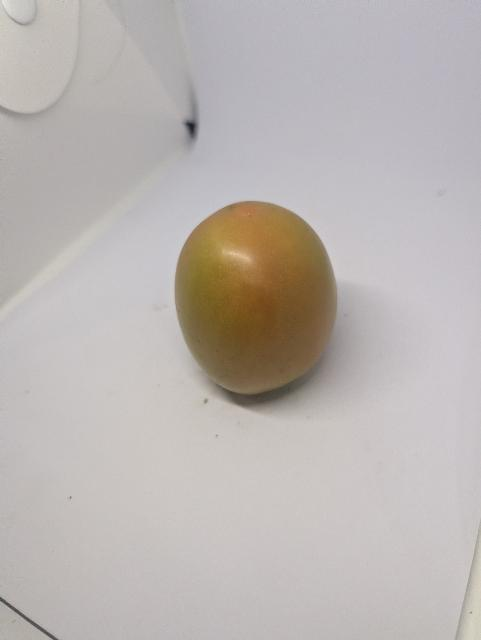breaker: (175, 201, 337, 394)
